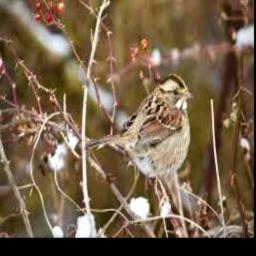Sparrow: (86, 74, 195, 193)
